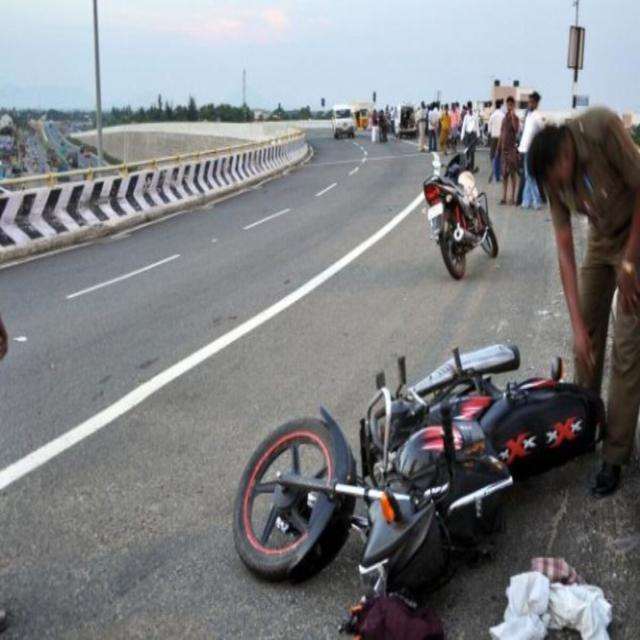accident: (234, 343, 604, 597)
